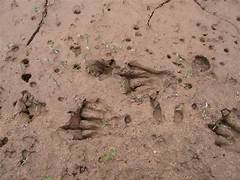beaver: (60, 95, 127, 145), (114, 61, 180, 101)
